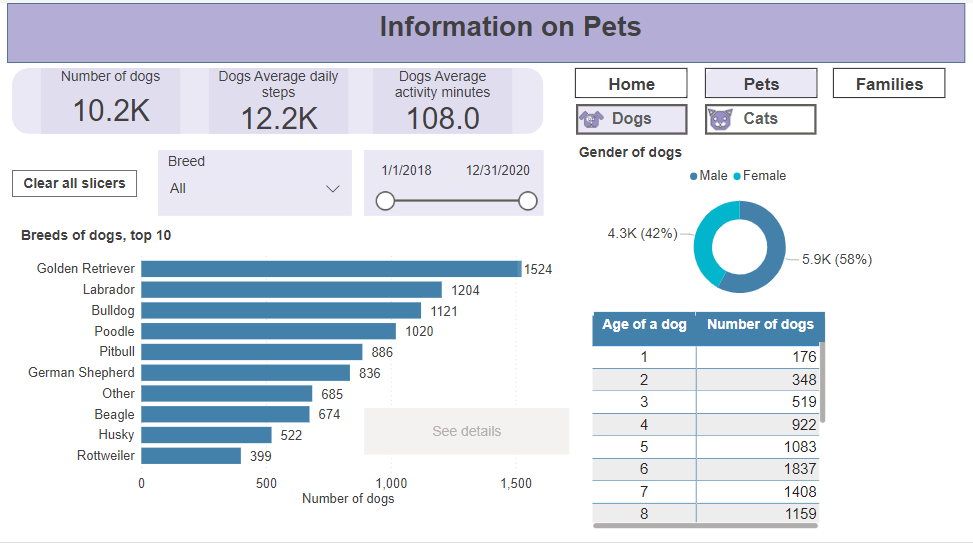

This screenshot's page, from the dashboard's own definition file:
{"tool":"powerbi","page":{"name":"Pets","canvas":[1280,720],"ordinal":1},"visuals":[{"type":"shape","box":[0,0,1280,80],"z":1000},{"type":"shape","box":[7.2,87,710.1,88.4],"z":2000},{"type":"textbox","title":"Text report","box":[459.9,5.7,426.8,67.5],"z":7000},{"type":"actionButton","title":"Home","box":[759.3,87.3,149.5,40.3],"z":8000},{"type":"actionButton","title":"Pets Info","box":[932.3,87.3,149.5,40.3],"z":9000},{"type":"actionButton","title":"Families Info","box":[1103.6,87.3,149.5,40.3],"z":10000},{"type":"clusteredBarChart","title":"Breeds of cats, top 10","fields":{"Category":["Pet_Data.Breed"],"Y":["CountNonNull(Pet_Data.Pet_ID)"]},"box":[24.4,298.9,747.3,378],"z":17000},{"type":"donutChart","title":"Gender of cats","fields":{"Category":["Pet_Data.Gender"],"Y":["CountNonNull(Pet_Data.Pet_ID)"]},"box":[758.8,181.1,445.5,235.7],"z":18000},{"type":"card","title":"Number of cats","fields":{"Values":["CountNonNull(Pet_Data.Dog/Cat)"]},"box":[49.3,87,185.5,88.4],"z":19000},{"type":"card","title":"Average daily steps cats","fields":{"Values":["Avg(Tracker_Data.Daily_Steps)"]},"box":[269.6,87,185.5,88.4],"z":20000},{"type":"card","title":"Cats Average activity minutes","fields":{"Values":["Avg(Tracker_Data.Activity_Minutes)"]},"box":[488.4,87,185.5,88.4],"z":21000},{"type":"actionButton","title":"Dogs Off","box":[759.4,131.9,149.3,40.6],"z":22000},{"type":"actionButton","title":"Cats off","box":[931.9,134.8,149.3,40.6],"z":23000},{"type":"tableEx","title":"Age of cats table","fields":{"Values":["Pet_Data.Age","Pet_Data.Pet_ID"]},"box":[810.1,411.6,327.5,294.2],"z":24000},{"type":"textbox","title":"Text age of cats","box":[815.2,415.3,135,41],"z":25000},{"type":"slicer","fields":{"Values":["Pet_Data.Breed"]},"box":[201.2,196.9,258.7,87.7],"z":26000},{"type":"textbox","title":"Text age of cats","box":[950.2,417,164.1,41],"z":27000},{"type":"actionButton","box":[7.2,222.8,166.7,35.9],"z":29000},{"type":"slicer","fields":{"Values":["Date_Table.Date"]},"box":[477.1,196.9,240,87.7],"z":30000},{"type":"actionButton","box":[477.1,540.4,274.5,61.8],"z":31000}]}

Visuals, with their boxes in screenshot pixels (x1, y1, x2, y2), scaled from the page's 1280x720 canvas onto the 973x543 screenshot:
shape: 0/0/972/60
shape: 5/66/545/132
"Text report" textbox: 350/4/674/55
"Home" actionButton: 577/66/691/96
"Pets Info" actionButton: 709/66/822/96
"Families Info" actionButton: 839/66/953/96
"Breeds of cats, top 10" clusteredBarChart: 19/225/587/510
"Gender of cats" donutChart: 577/137/915/314
"Number of cats" card: 37/66/178/132
"Average daily steps cats" card: 205/66/346/132
"Cats Average activity minutes" card: 371/66/512/132
"Dogs Off" actionButton: 577/99/691/130
"Cats off" actionButton: 708/102/822/132
"Age of cats table" tableEx: 616/310/865/532
"Text age of cats" textbox: 620/313/722/344
slicer - Pet_Data.Breed: 153/148/350/215
"Text age of cats" textbox: 722/314/847/345
actionButton: 5/168/132/195
slicer - Date_Table.Date: 363/148/545/215
actionButton: 363/408/571/454
